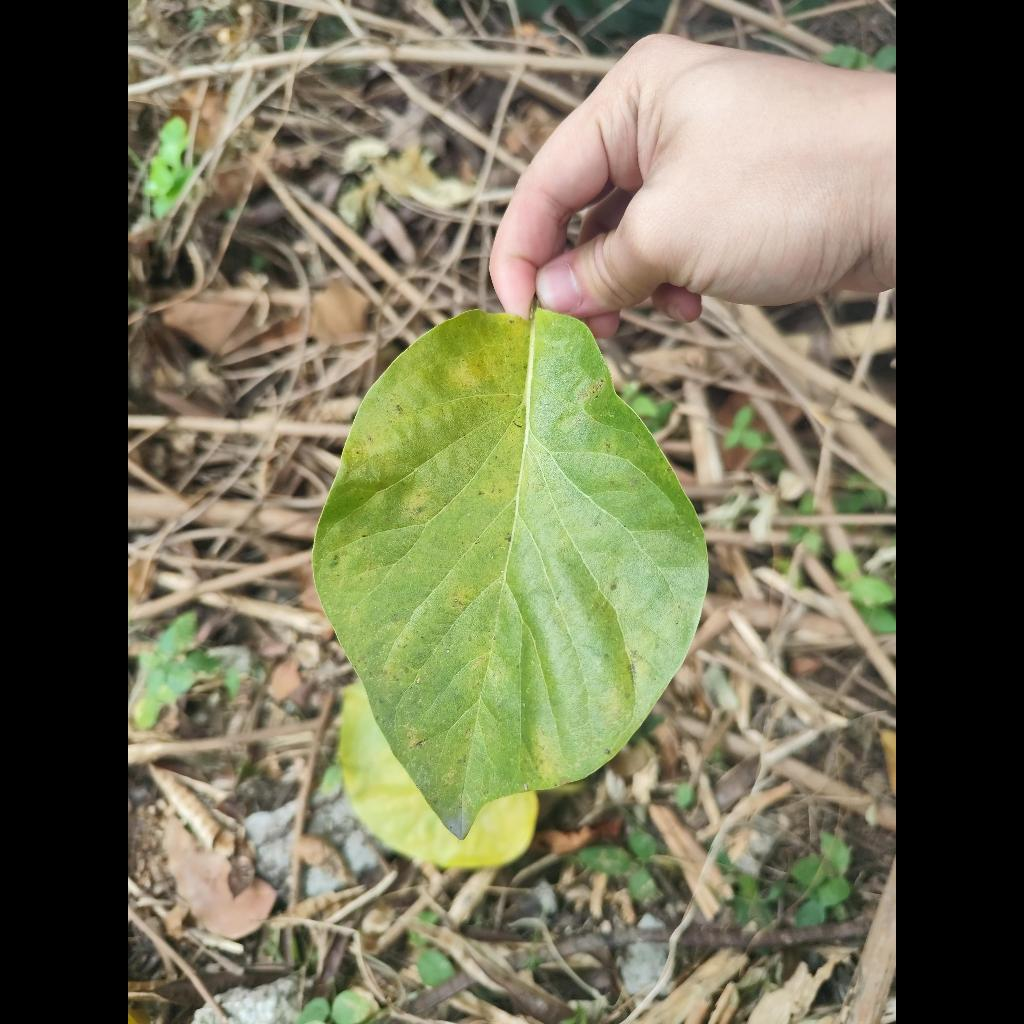nutrient_deficiency: (314, 309, 708, 839)
